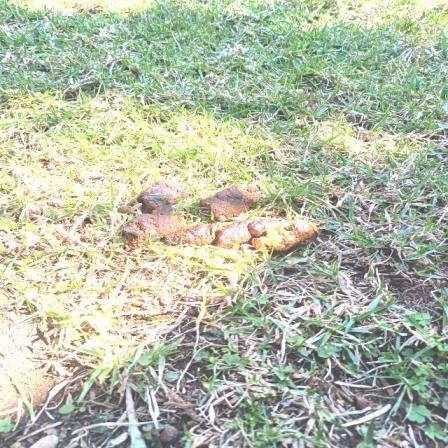dog-poop: (131, 168, 316, 255)
